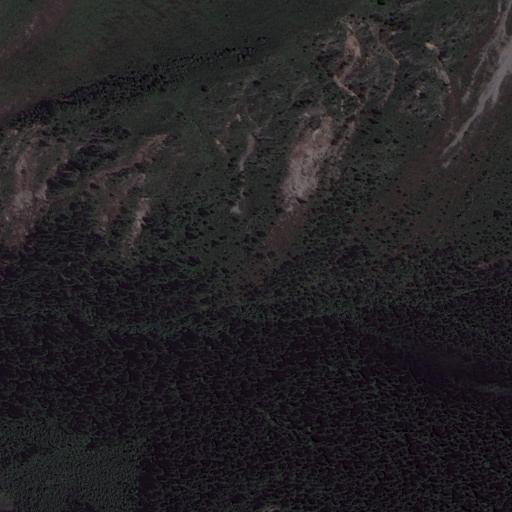landslide: (275, 115, 336, 210)
